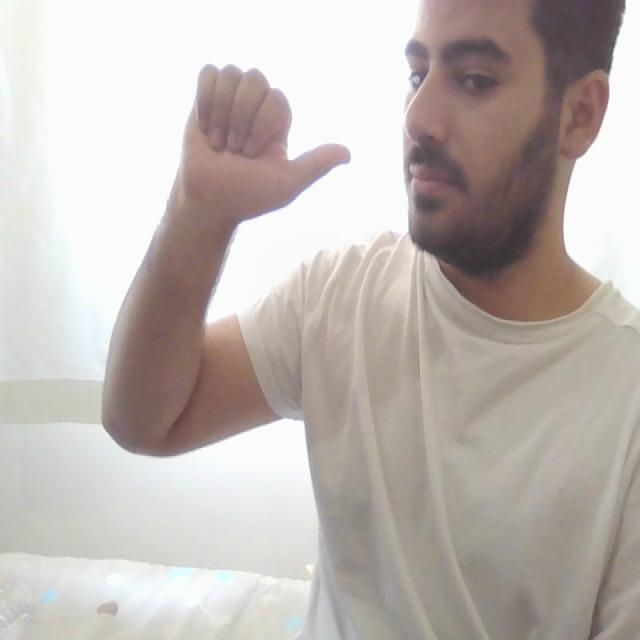icmek: (159, 69, 438, 231)
